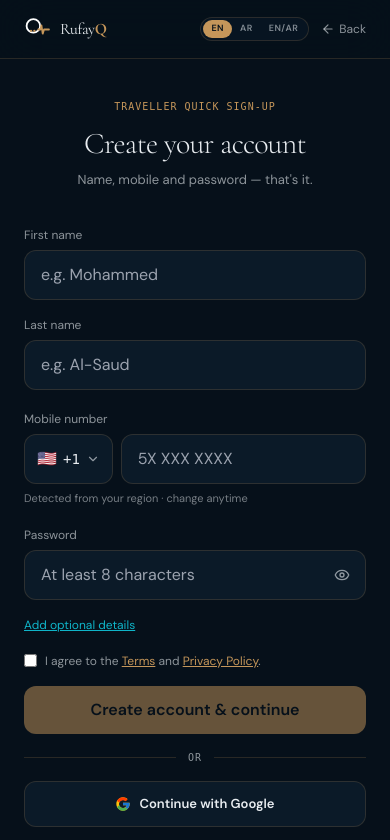
Test: QuickSignup › renders First/Last name inline and hides Arabic counterparts + Nationality + DOB behind 'Add optional details' in EN mode
The width and height of the screenshot is (390, 840).
Expected: the text "First name" is shown, left=24, top=226, right=82, bottom=242
Expected: the text "Last name" is shown, left=24, top=316, right=81, bottom=332
Note: Toggle reveals them
Click the button "Add optional details" at [80, 625], box left=24, top=616, right=135, bottom=634
(page scrolled)
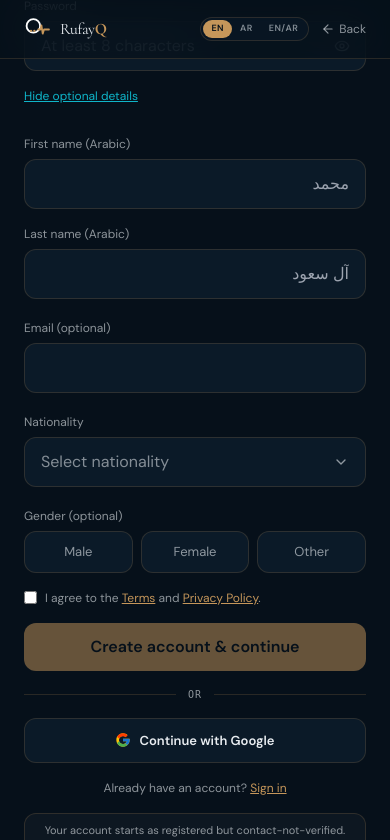
Now the text "First name (Arabic)" is shown, box left=24, top=136, right=130, bottom=152
Now the text "Last name (Arabic)" is shown, box left=24, top=226, right=129, bottom=242
Now the text "Nationality" is shown, box left=24, top=414, right=84, bottom=430
